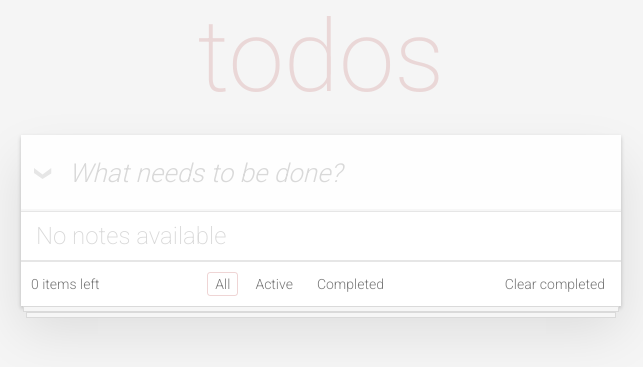
Adds and displays a new note test
Type "New Note" into the field with placeholder "What needs to be done?" at x=321, y=173, box [29, 143, 613, 203]
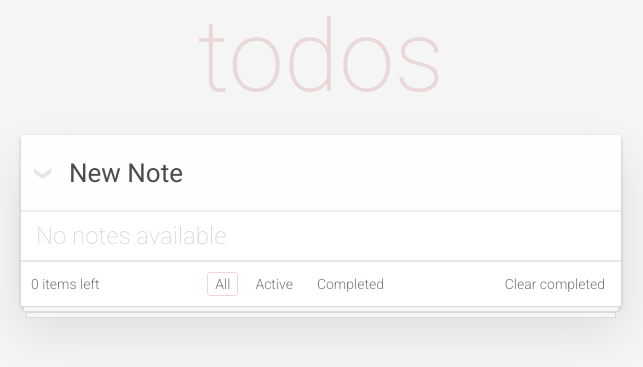
Submit the form with test id "note-input-form", box [21, 135, 621, 212]
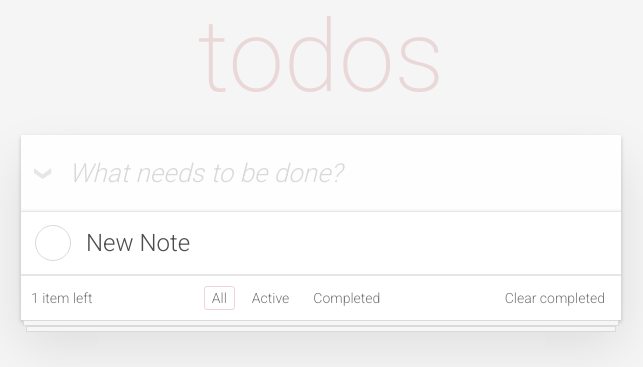
expect the text "New Note" is shown: met, box [86, 229, 190, 257]
